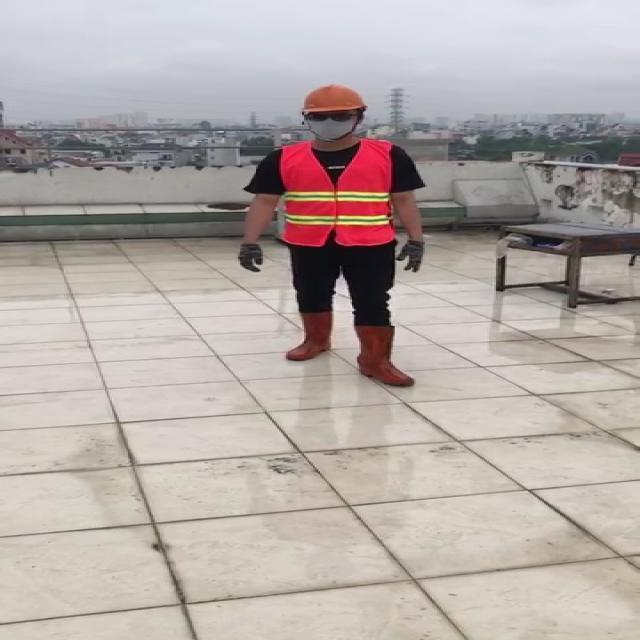boots: (358, 323, 428, 386), (282, 311, 338, 363)
helmet: (297, 80, 367, 114)
vest: (276, 140, 398, 246)
